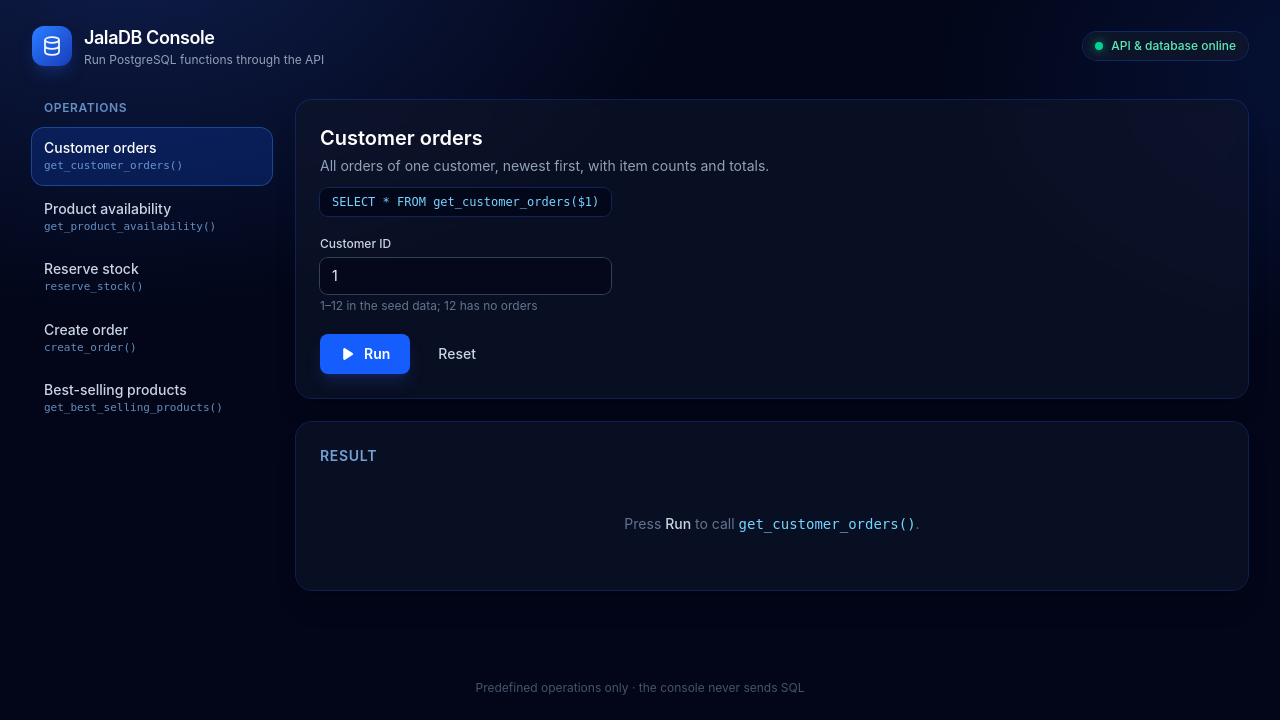
Test: App › sends the form values and shows the database error
Click the button "Reserve stock reserve_stock()": (152,277) [32,249,272,306]
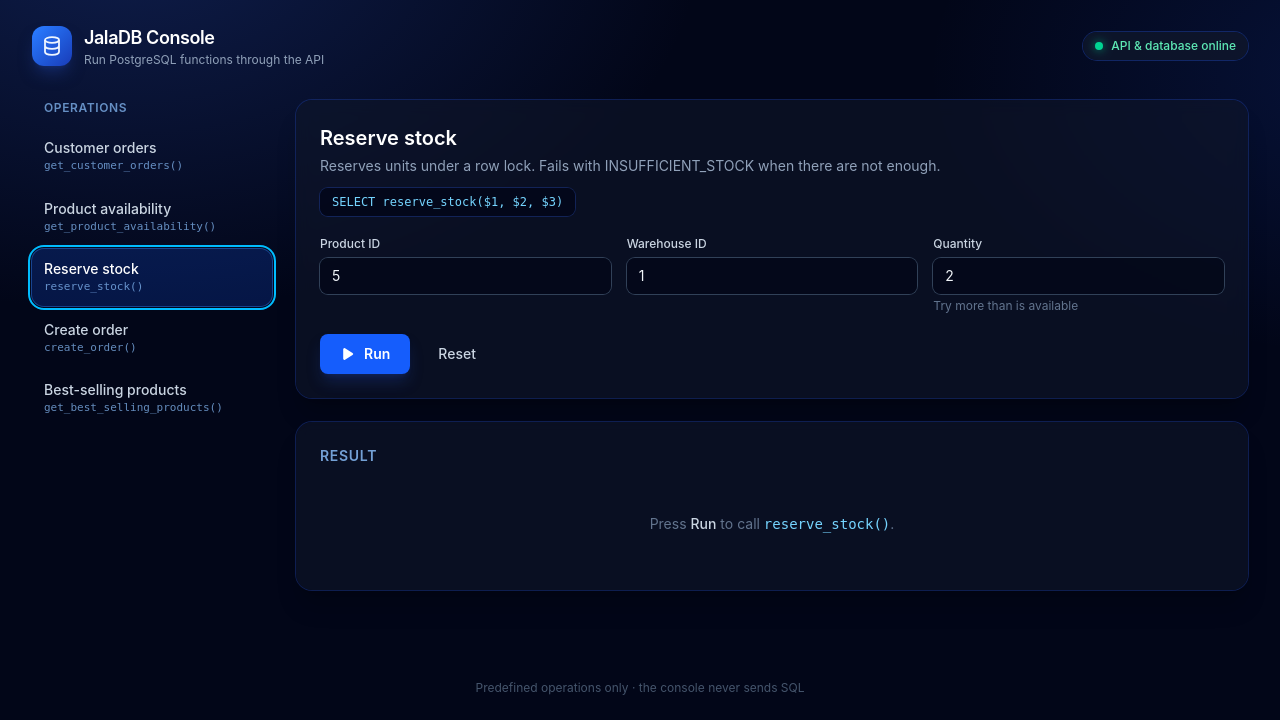
Replace the text in the number field labelled "Quantity" with "999": (1079,276) [933,258,1224,294]
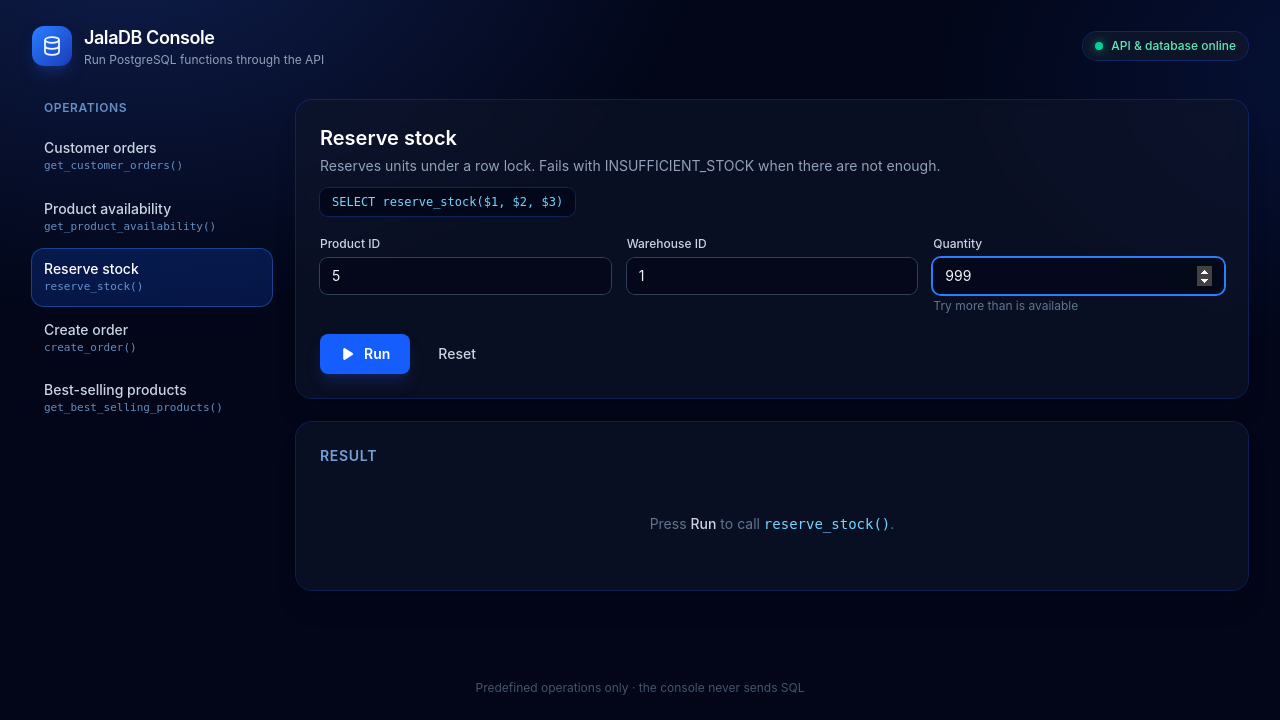
Click the button "Run": (365,354) [320,334,410,374]
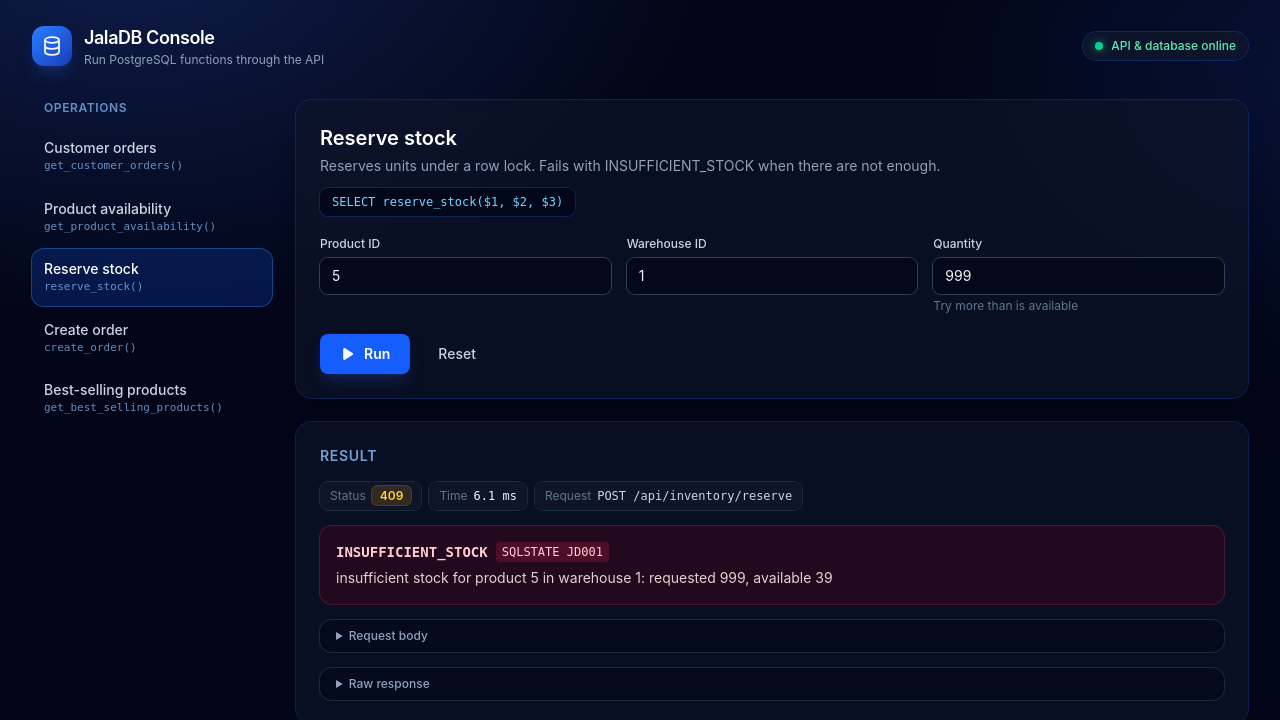
Now the message that starts with "INSUFFICIENT_STOCK" shows "requested 999, available 39", box [336,569,833,586]
